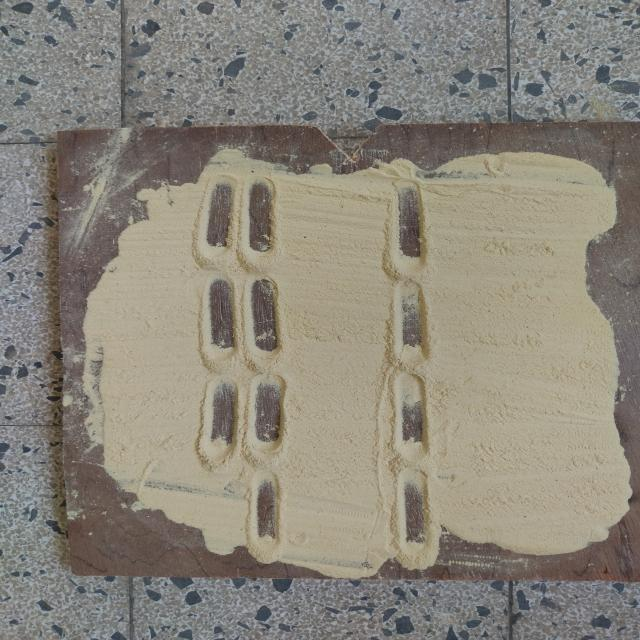double: (194, 271, 290, 372), (190, 172, 285, 274), (194, 374, 293, 468)
single: (388, 462, 445, 577), (380, 172, 436, 280), (382, 275, 438, 375), (385, 366, 439, 466), (241, 466, 291, 570)
